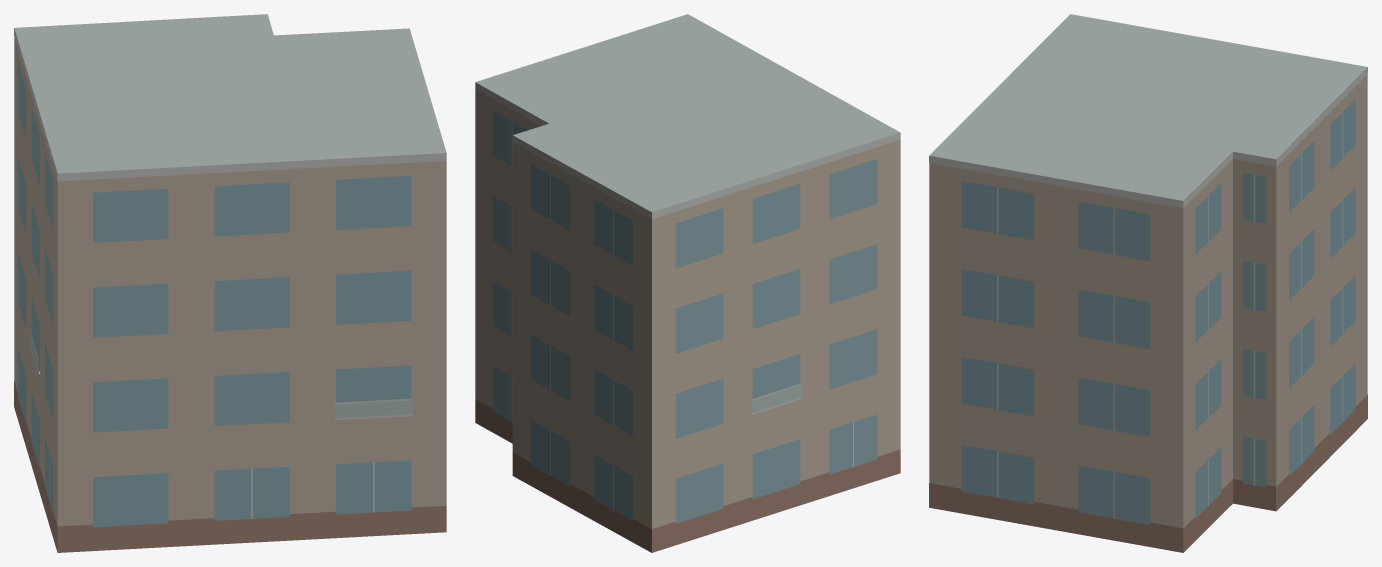
File: survey-upis-32669330.glb
3 views of the same model, side by side, from view 1: azimuth 30°, elevation 25°; view 2: azimuth 150°, elevation 25°; view 3: azimuth 270°, elevation 25° (orthographic). The views are drawn at different scales.
Parts seen in each view (by area): view 1: survey-upis-32669330.tmp; view 2: survey-upis-32669330.tmp; view 3: survey-upis-32669330.tmp.
Part boxes in pixels (x1,y1,x2,y2): survey-upis-32669330.tmp: (14,14,446,552); survey-upis-32669330.tmp: (475,14,900,552); survey-upis-32669330.tmp: (929,14,1367,552).
Bounding box in the file's own units: 13.51 × 11.85 × 13.39.
